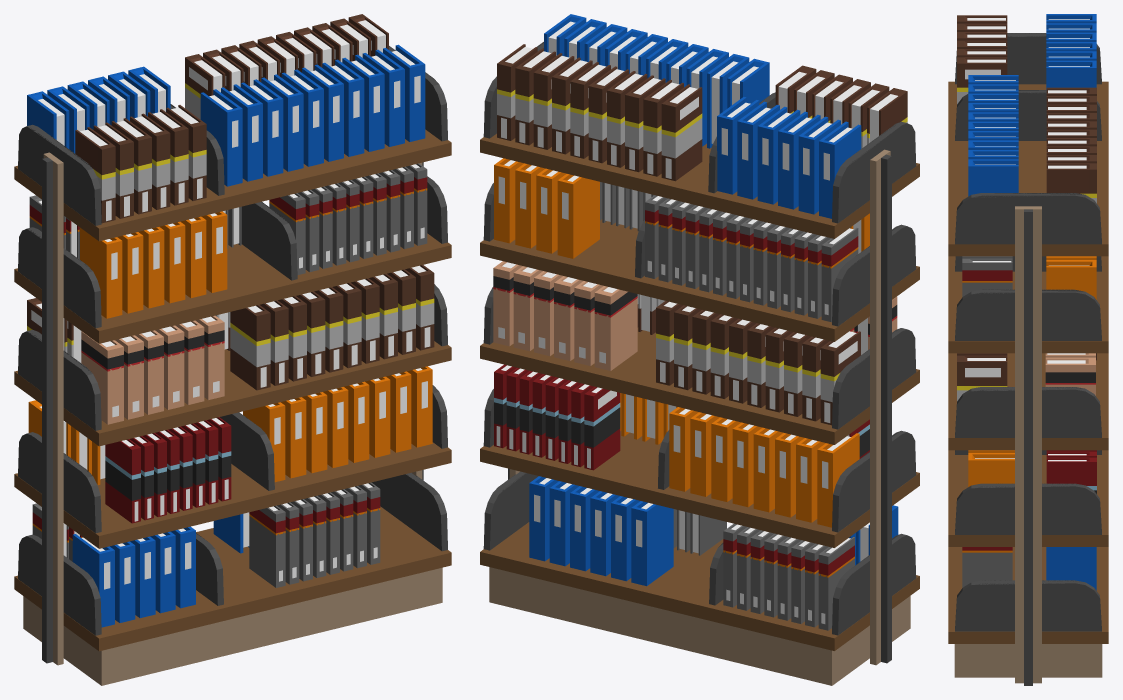
Rendered from l_text_bookshelf_1.glb.
3 renders of one model, left to right at view 1: azimuth 30°, elevation 25°; view 2: azimuth 150°, elevation 25°; view 3: azimuth 270°, elevation 25°, orthographic. The views are drawn at different scales.
Parts seen in each view (by area): view 1: Cube; view 2: Cube; view 3: Cube.
Boxes of the visible parts, x1,y1,x2,y2 form: Cube: [14, 14, 451, 685]; Cube: [480, 14, 919, 685]; Cube: [948, 14, 1108, 685].
Size of the model in its own units: 1.54 by 2.09 by 0.6.
1 material, 1 textured.
